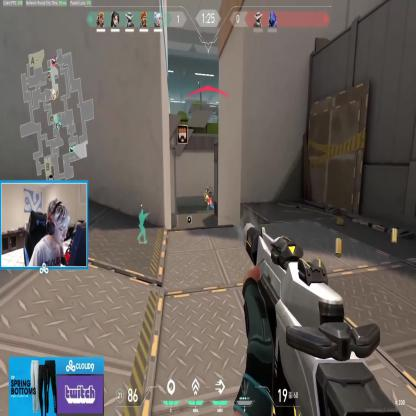enemy: (206, 187, 210, 208), (204, 192, 208, 208)
enemy_head: (207, 187, 209, 191), (204, 192, 206, 196)
